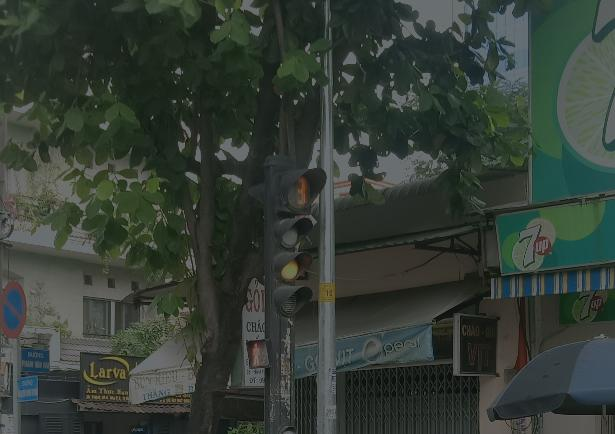yellow_light: (272, 218, 312, 316)
